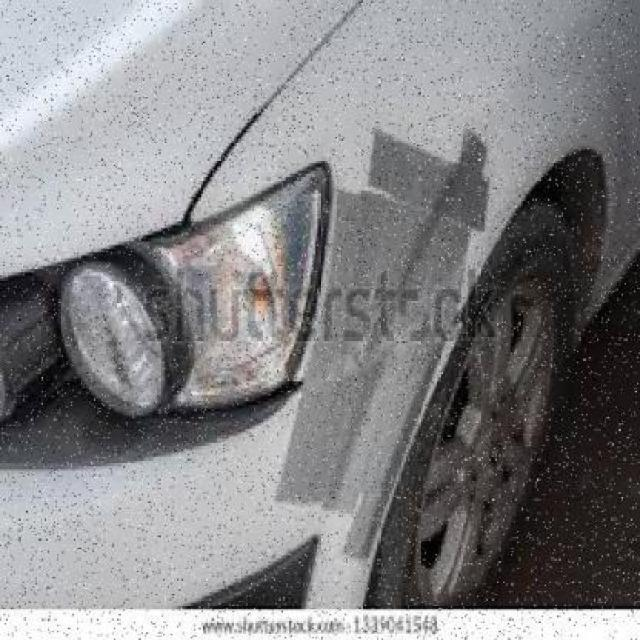fender-dent: (245, 14, 639, 378)
